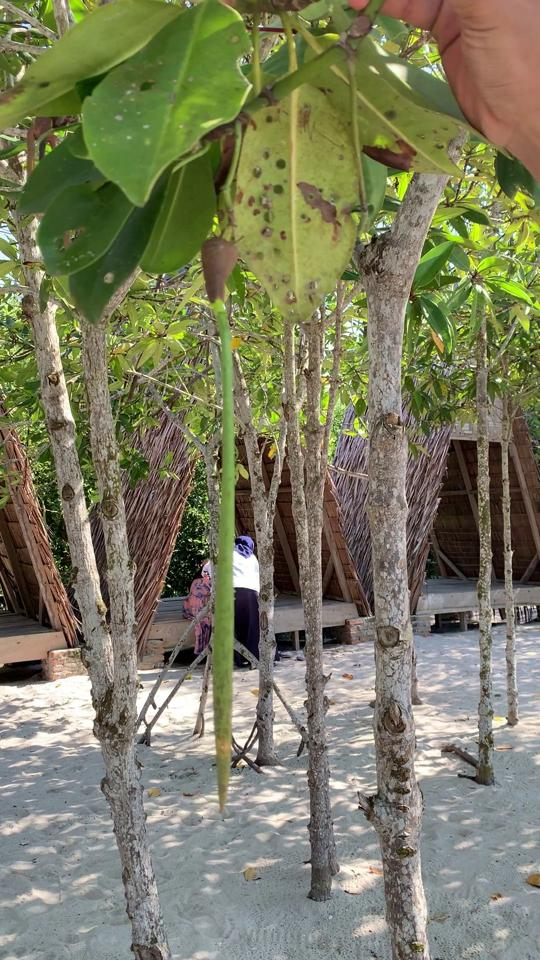setengah matang: (196, 225, 241, 818)
